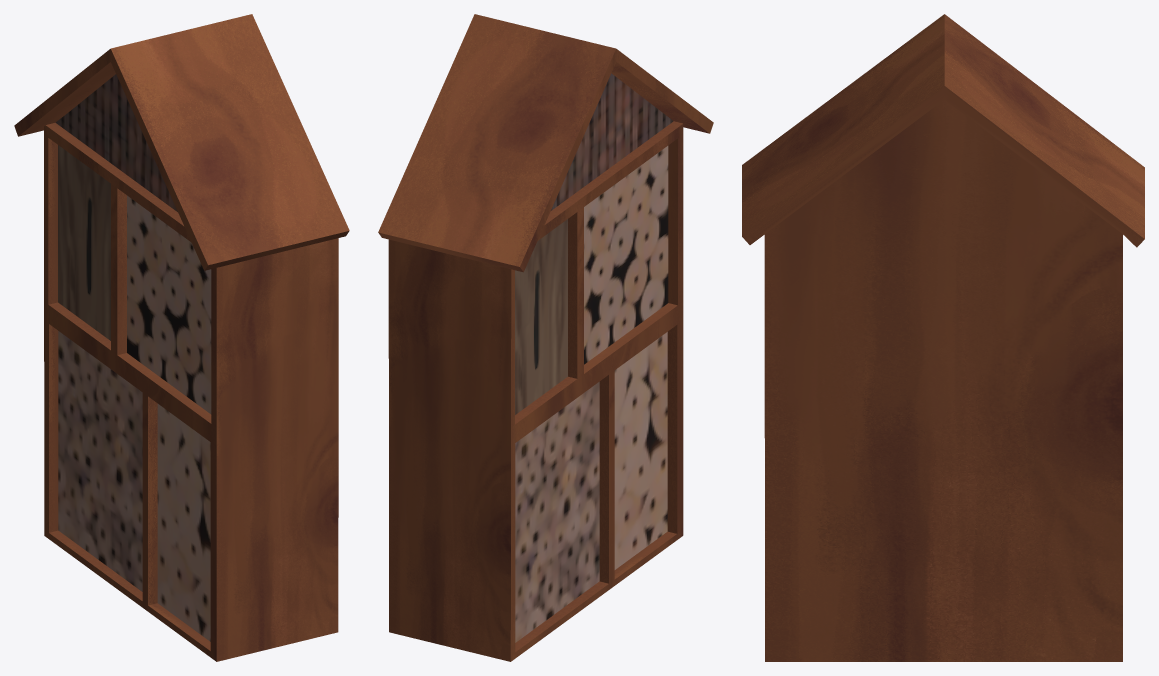
File: Insect_hotel02.fbx
3 renders of one model, left to right at view 1: azimuth 30°, elevation 25°; view 2: azimuth 150°, elevation 25°; view 3: azimuth 270°, elevation 25°, orthographic. The views are drawn at different scales.
Visible parts, largest first — view 1: Insect_hotel02; view 2: Insect_hotel02; view 3: Insect_hotel02.
Boxes of the visible parts, box(x1,y1,x2,y2) form: Insect_hotel02: box(14, 14, 349, 661); Insect_hotel02: box(378, 14, 713, 661); Insect_hotel02: box(742, 14, 1144, 661).
Bounding box in the file's own units: 2.33 × 8.74 × 5.52.
Materials: 2 (2 with a texture image).
